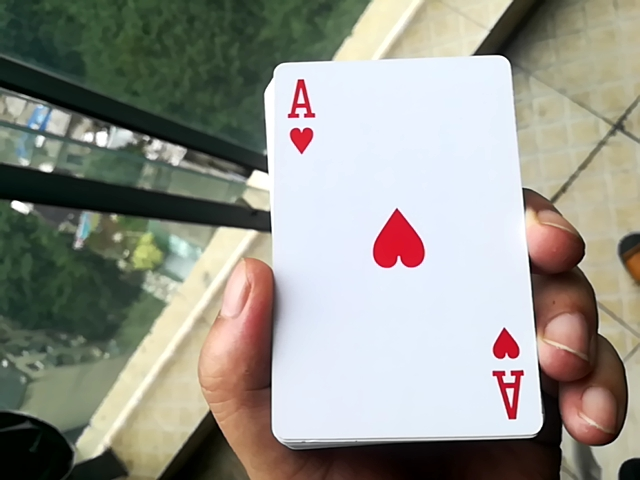hx a: (242, 50, 539, 451)
